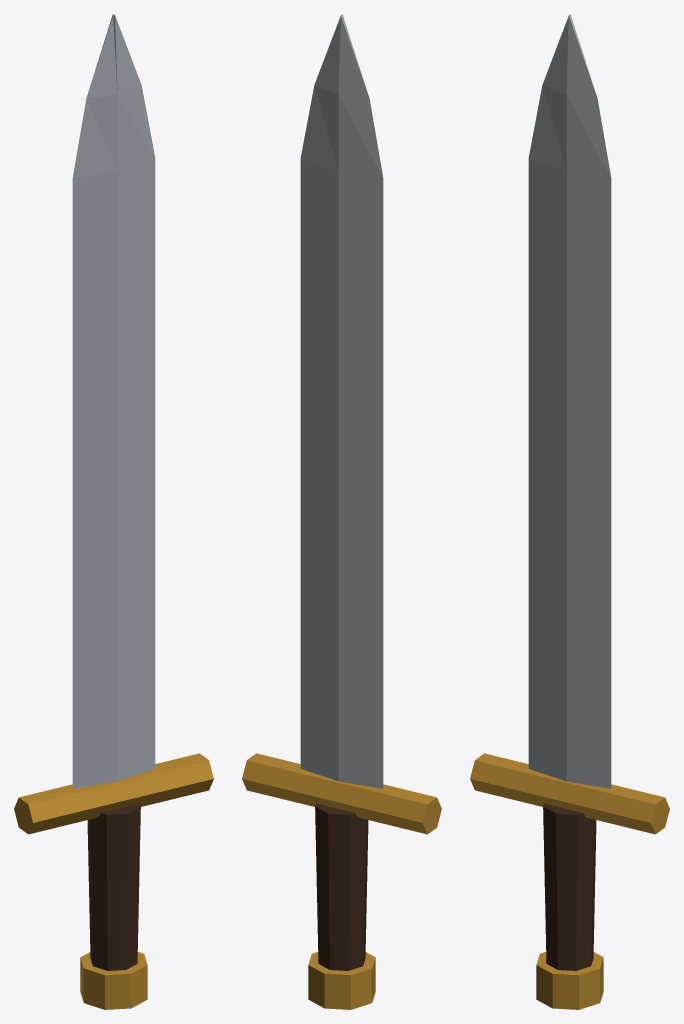
Rendered from g-shortsword.glb.
3 renders of one model, left to right at view 1: azimuth 30°, elevation 25°; view 2: azimuth 150°, elevation 25°; view 3: azimuth 330°, elevation 25°, orthographic.
Parts seen in each view (by area): view 1: g-shortsword; view 2: g-shortsword; view 3: g-shortsword.
Boxes of the visible parts, box(x1,y1,x2,y2) form: g-shortsword: box(14, 14, 213, 1009); g-shortsword: box(242, 14, 441, 1009); g-shortsword: box(470, 14, 669, 1009).
Bounding box in the file's own units: 0.12 × 0.622 × 0.04.
